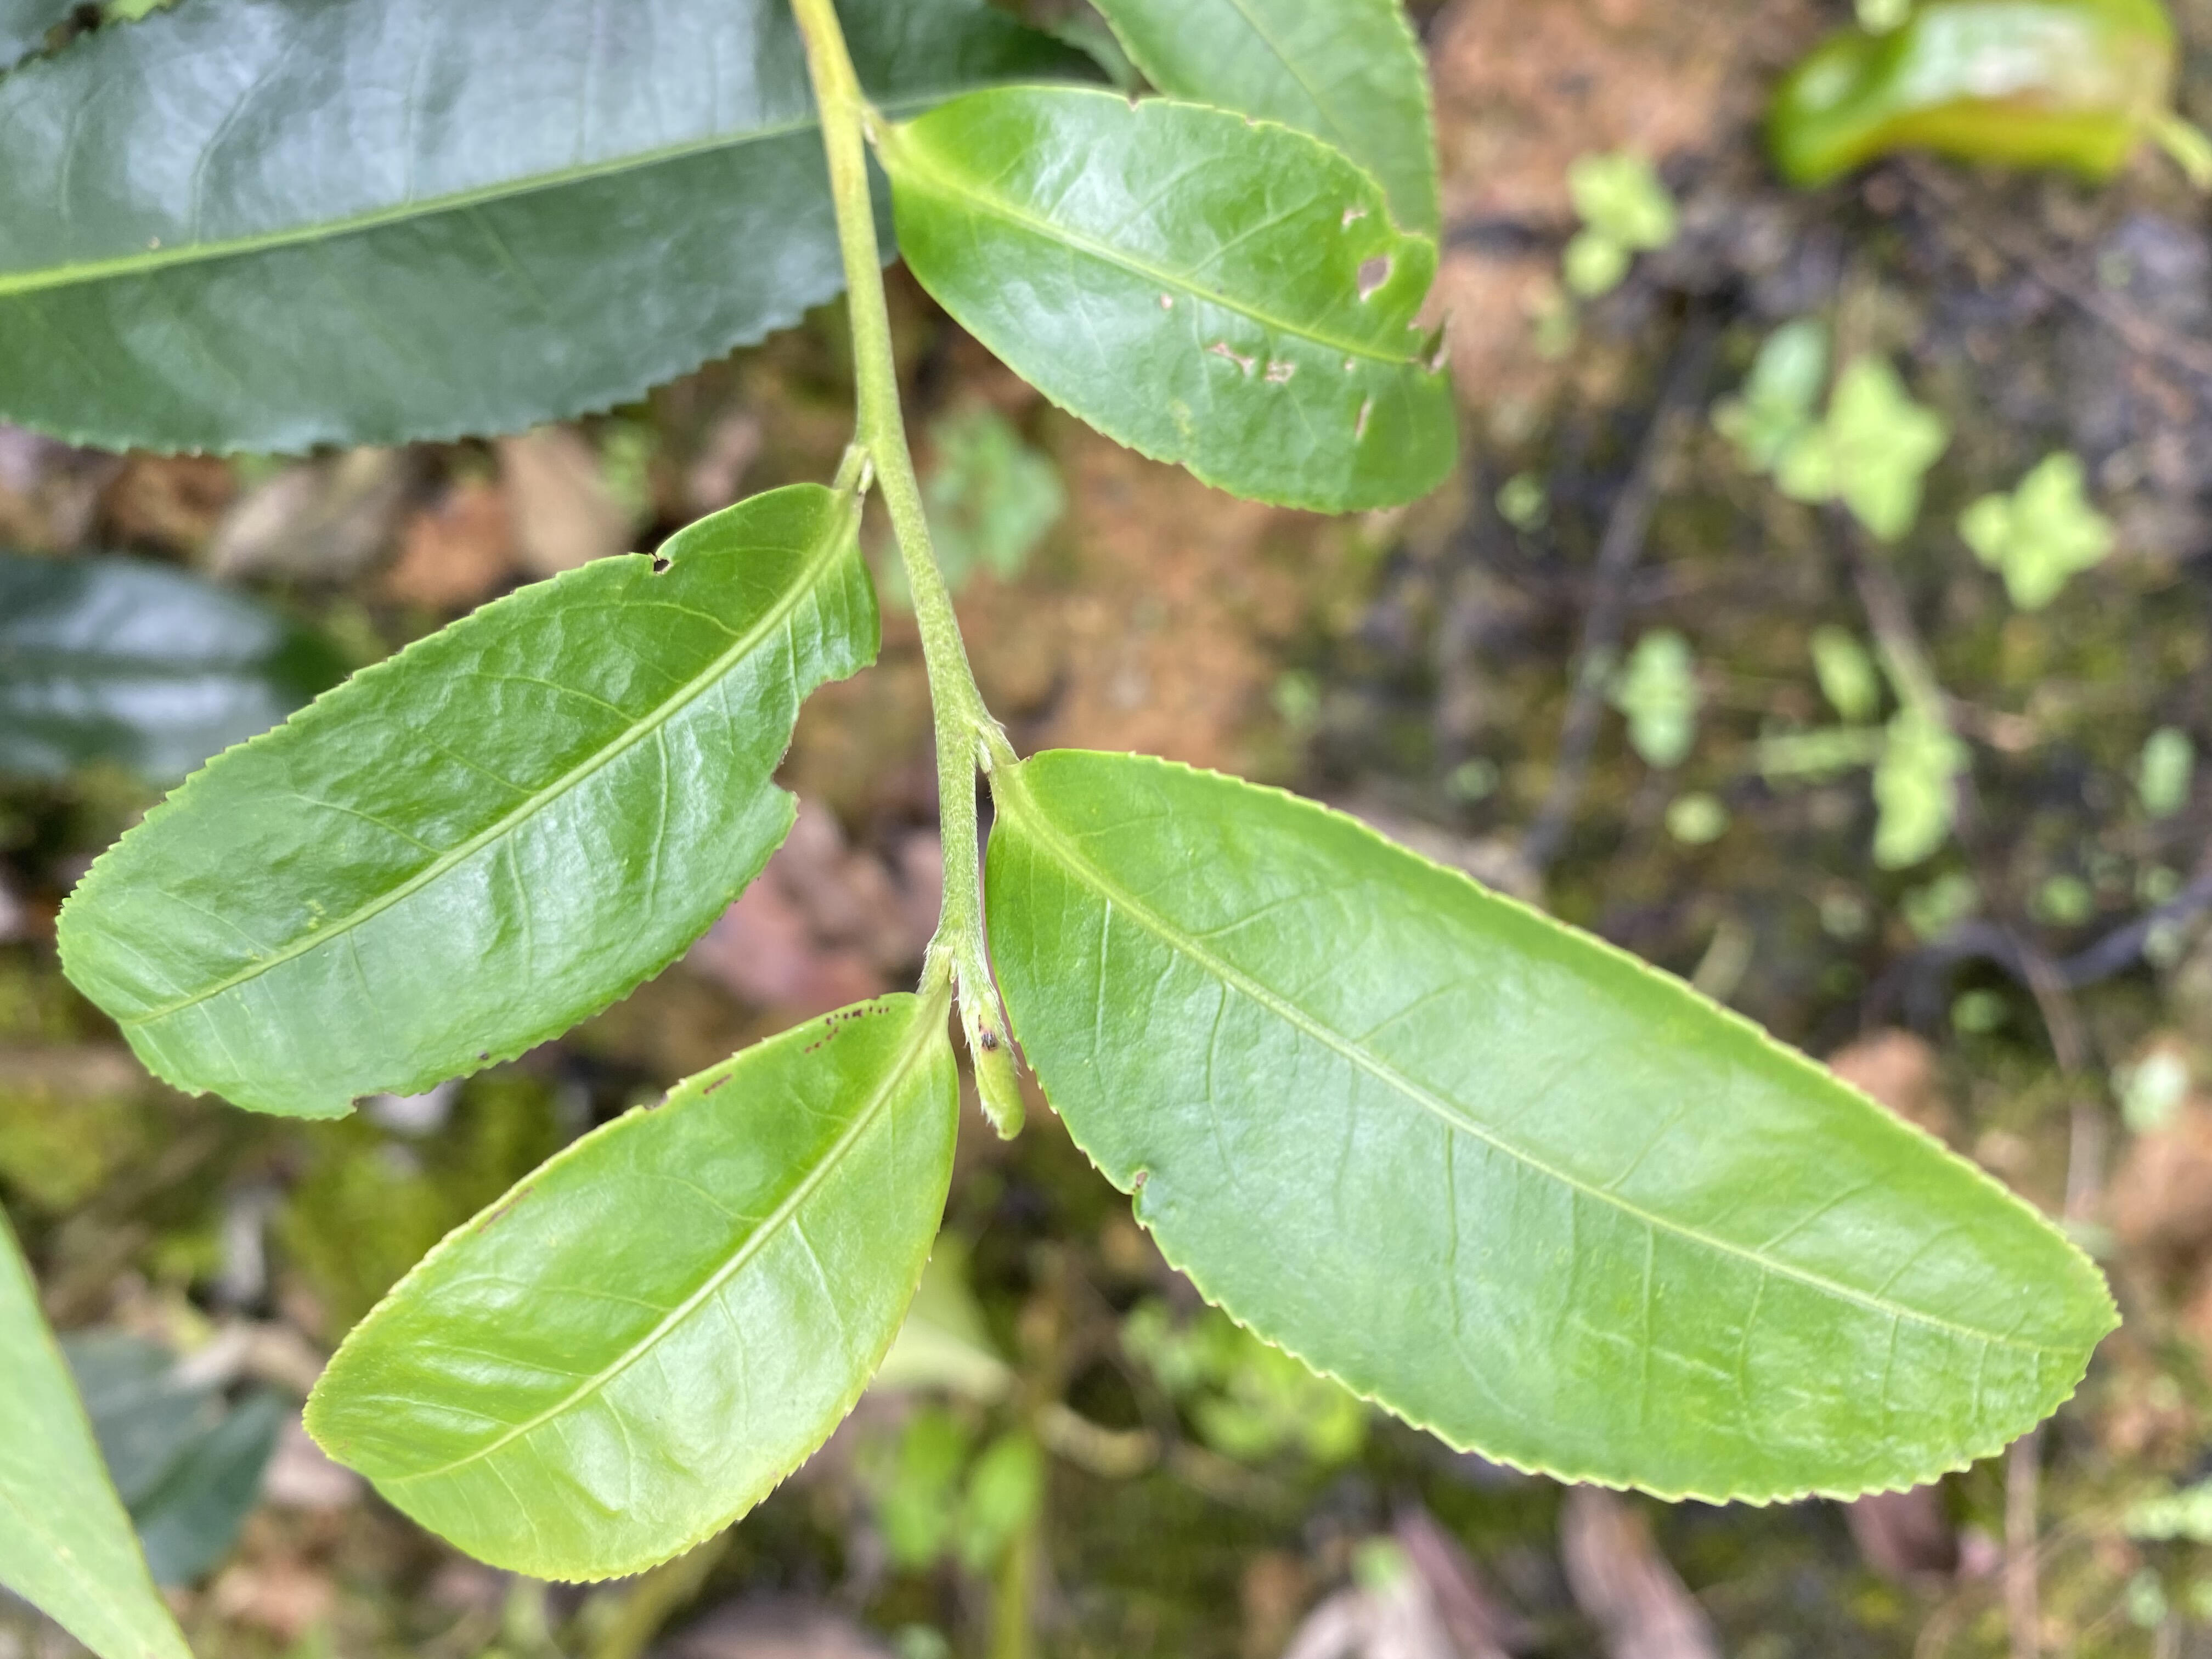chihuo_high: (52, 483, 885, 1126), (887, 82, 1463, 518)
healthy: (2, 2, 1024, 455)
tanju_low: (982, 748, 2127, 1511)
